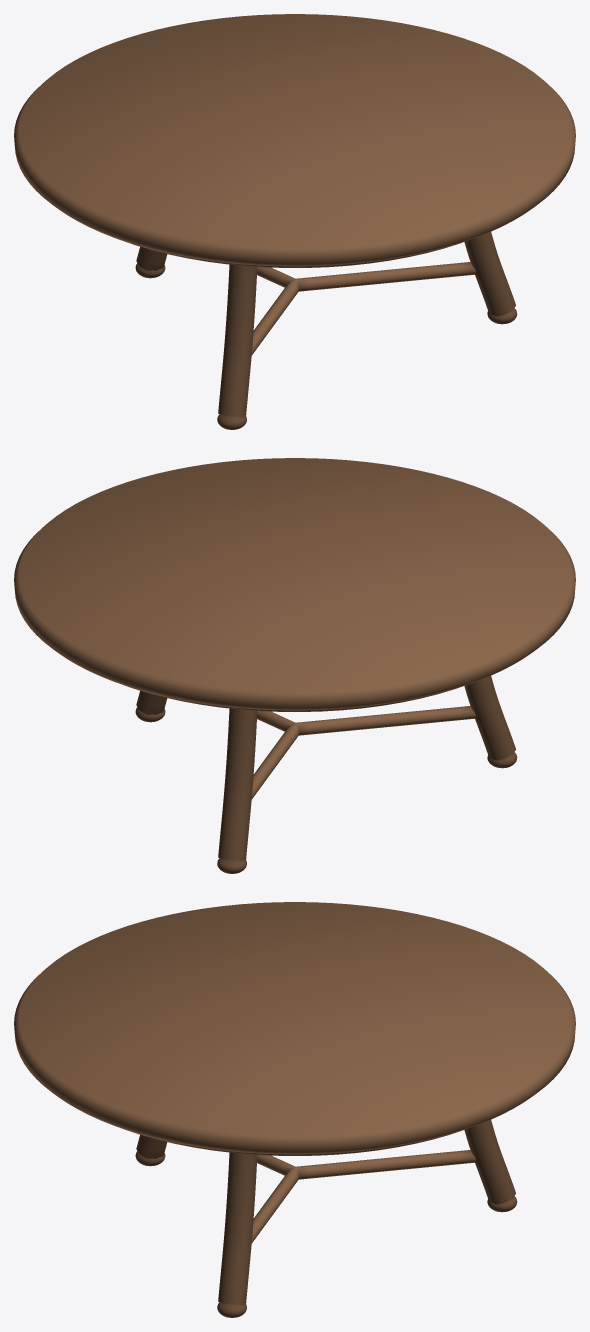
Rendered from coffeetable.glb.
The picture shows the model from 3 angles, top to bottom: view 1: azimuth 30°, elevation 25°; view 2: azimuth 150°, elevation 25°; view 3: azimuth 270°, elevation 25°; orthographic projection.
Parts seen in each view (by area): view 1: Atelier_Coffeetable; view 2: Atelier_Coffeetable; view 3: Atelier_Coffeetable.
Boxes of the visible parts, x1,y1,x2,y2 form: Atelier_Coffeetable: (14, 14, 575, 429); Atelier_Coffeetable: (14, 458, 575, 873); Atelier_Coffeetable: (14, 902, 575, 1317).
Size of the model in its own units: 1.35 by 0.56 by 1.35.
